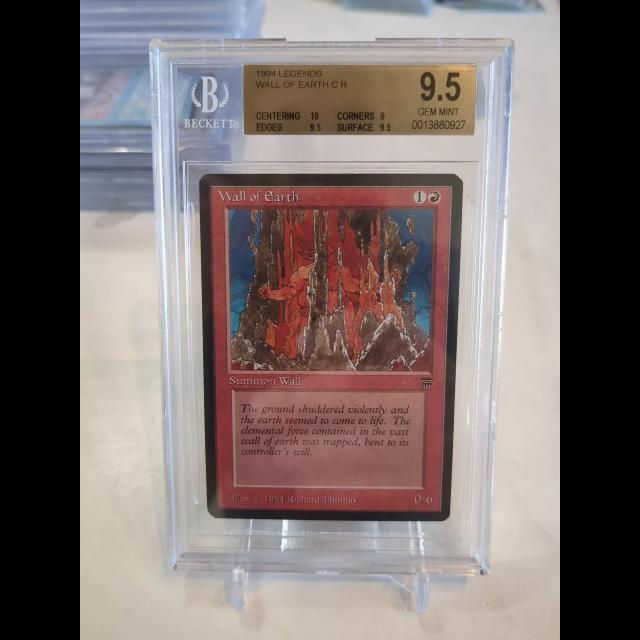bgs_label: (243, 62, 476, 134)
bgs_slab: (148, 38, 515, 577)
card: (199, 173, 464, 522)
